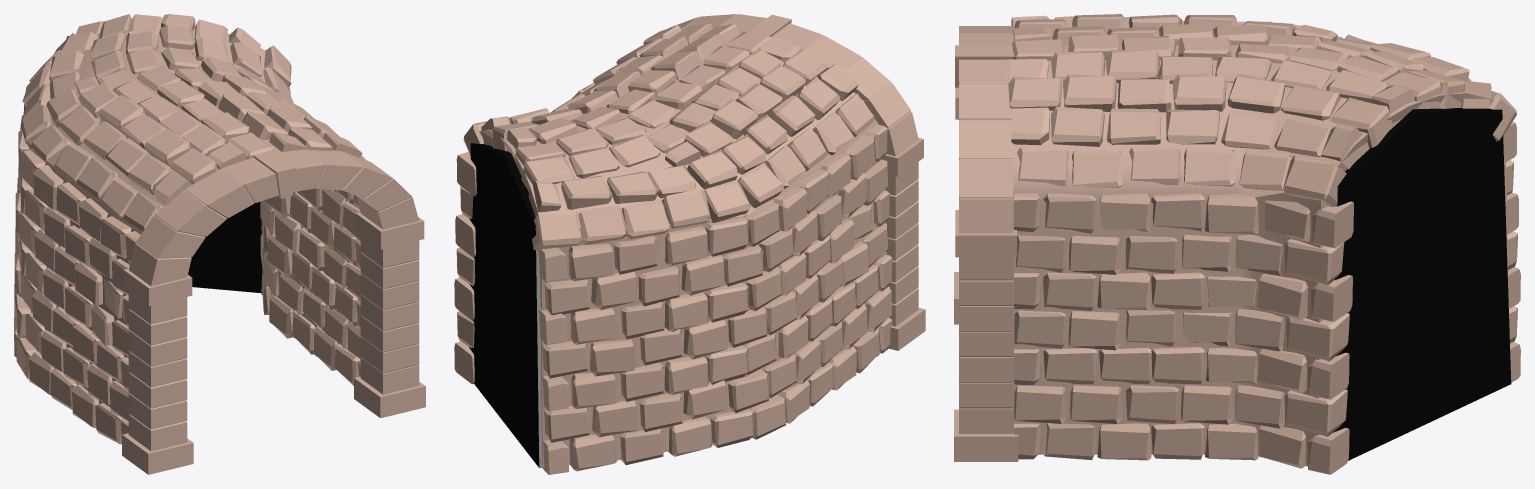
Rendered from entreeVolcan.fbx.
The picture shows the model from 3 angles, left to right: view 1: azimuth 30°, elevation 25°; view 2: azimuth 150°, elevation 25°; view 3: azimuth 270°, elevation 25°; orthographic projection. The views are drawn at different scales.
Parts seen in each view (by area): view 1: polySurface323; view 2: polySurface323; view 3: polySurface323.
Boxes of the visible parts, box(x1,y1,x2,y2) form: polySurface323: box(14, 14, 425, 474); polySurface323: box(454, 14, 925, 474); polySurface323: box(954, 14, 1520, 474).
Bounding box in the file's own units: 15.48 × 13.96 × 20.71.
